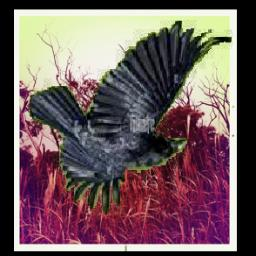Crow: (29, 19, 233, 216)
